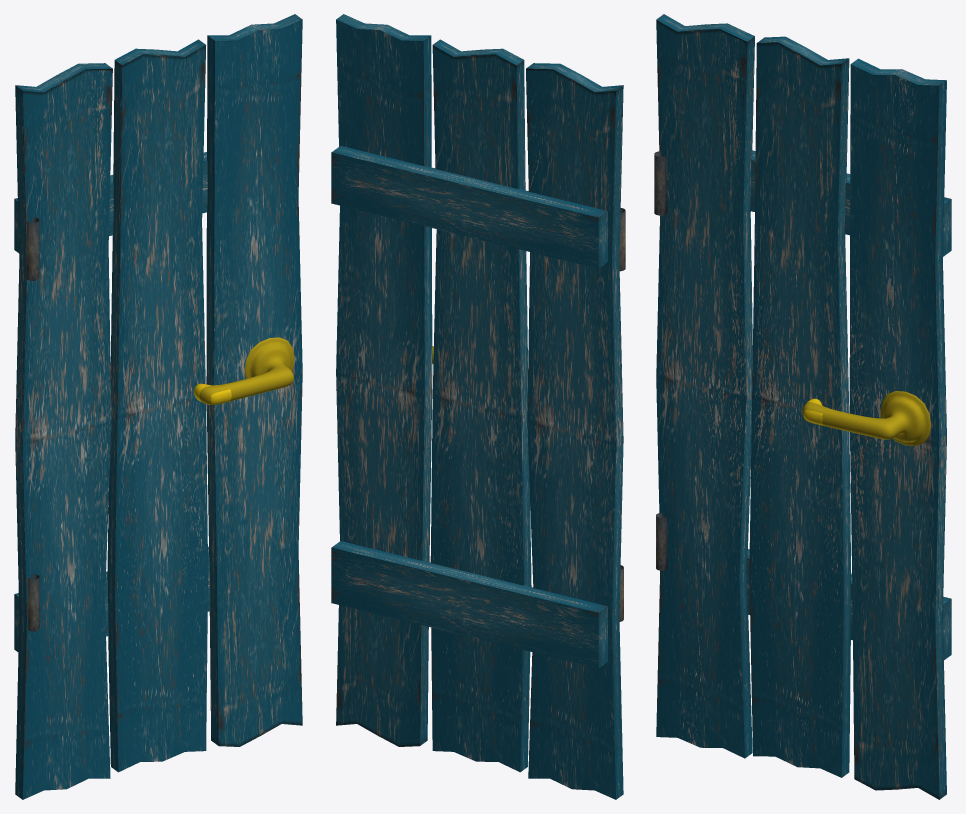
The model's file is toilette_door.glb.
3 renders of one model, left to right at view 1: azimuth 30°, elevation 25°; view 2: azimuth 150°, elevation 25°; view 3: azimuth 330°, elevation 25°, orthographic.
Visible parts, largest first — view 1: toilette_porte; view 2: toilette_porte; view 3: toilette_porte.
Boxes of the visible parts, box(x1,y1,x2,y2) form: toilette_porte: box(14, 14, 302, 799); toilette_porte: box(331, 14, 625, 799); toilette_porte: box(654, 14, 951, 799).
Size of the model in its own units: 0.9723 by 2.38 by 0.2343.
Materials: 3 (3 with a texture image).
